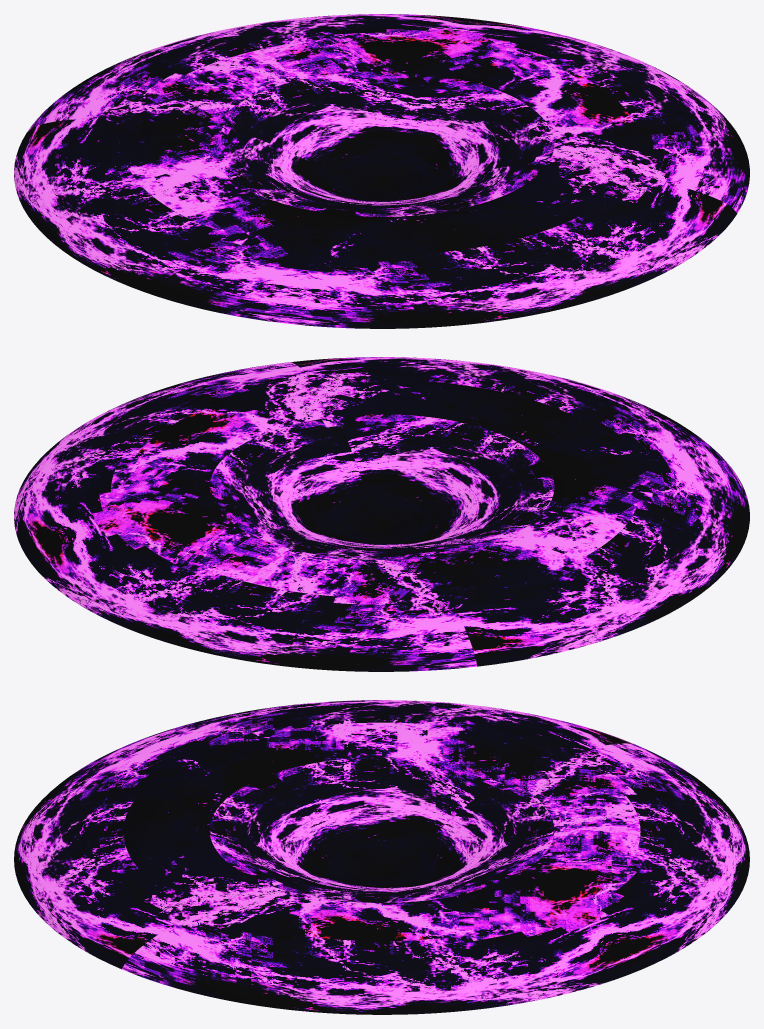
The model's file is buraconegroshapekey.gltf.
3 views of the same model, one above another, from view 1: azimuth 30°, elevation 25°; view 2: azimuth 150°, elevation 25°; view 3: azimuth 270°, elevation 25° (orthographic).
Parts seen in each view (by area): view 1: Sphere; view 2: Sphere; view 3: Sphere.
Boxes of the visible parts, x1=… form: Sphere: x1=14, y1=14, x2=749, y2=328; Sphere: x1=14, y1=357, x2=749, y2=671; Sphere: x1=14, y1=700, x2=749, y2=1014.
Size of the model in its own units: 1.99 by 0.1335 by 1.99.
1 material, 1 textured.
